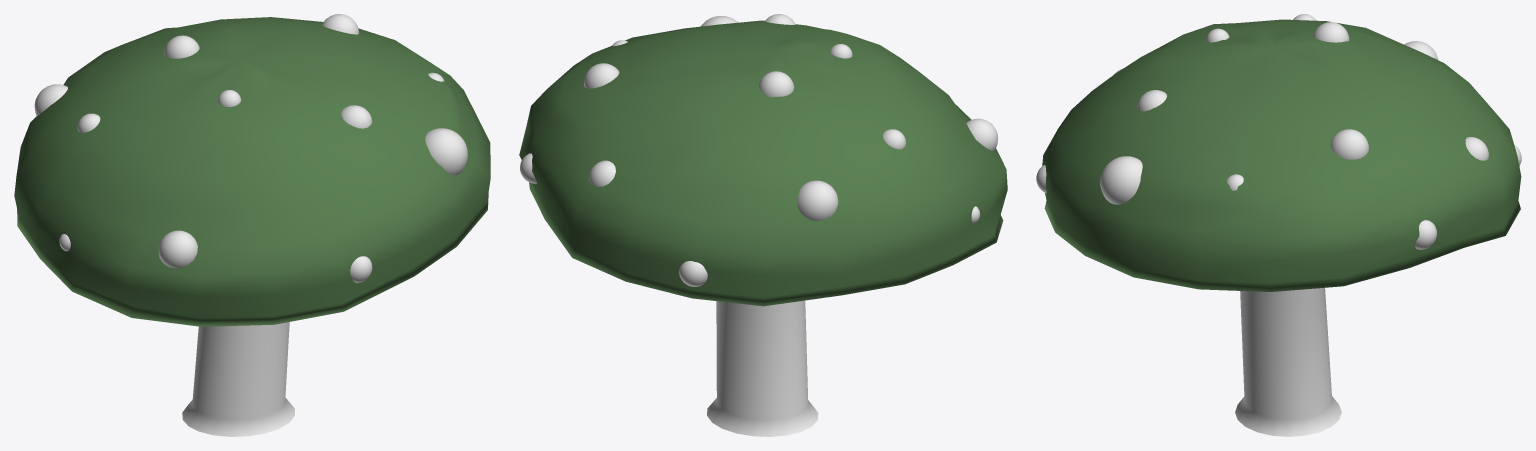
The model's file is Mushroom4V1.fbx.
The picture shows the model from 3 angles, left to right: view 1: azimuth 30°, elevation 25°; view 2: azimuth 150°, elevation 25°; view 3: azimuth 270°, elevation 25°; orthographic projection.
Visible parts, largest first — view 1: pSphere1, pCylinder1, pSphere9, pSphere8, pSphere11, pSphere4, pSphere15, pSphere12, pSphere2; view 2: pSphere1, pCylinder1, pSphere4, pSphere11, pSphere8, pSphere12, pSphere13, pSphere10; view 3: pSphere1, pCylinder1, pSphere9, pSphere12, pSphere11, pSphere5.
Part boxes in pixels (left/top/right/bottom): pSphere1: left=14, top=17, right=490, bottom=326; pCylinder1: left=182, top=322, right=294, bottom=436; pSphere9: left=425, top=128, right=467, bottom=174; pSphere8: left=158, top=230, right=197, bottom=268; pSphere11: left=164, top=35, right=199, bottom=58; pSphere4: left=34, top=84, right=67, bottom=115; pSphere15: left=341, top=105, right=372, bottom=128; pSphere12: left=322, top=14, right=358, bottom=34; pSphere2: left=350, top=256, right=372, bottom=282; pSphere1: left=519, top=20, right=1007, bottom=306; pCylinder1: left=707, top=300, right=818, bottom=436; pSphere4: left=797, top=180, right=838, bottom=220; pSphere11: left=759, top=71, right=794, bottom=97; pSphere8: left=966, top=118, right=997, bottom=150; pSphere12: left=584, top=63, right=619, bottom=88; pSphere13: left=679, top=261, right=707, bottom=286; pSphere10: left=589, top=160, right=615, bottom=186; pSphere1: left=1042, top=19, right=1521, bottom=291; pCylinder1: left=1235, top=288, right=1341, bottom=436; pSphere9: left=1100, top=156, right=1142, bottom=204; pSphere12: left=1331, top=129, right=1368, bottom=159; pSphere11: left=1313, top=22, right=1349, bottom=42; pSphere5: left=1415, top=220, right=1436, bottom=249.
Size of the model in its own units: 11.09 by 9.31 by 11.03.
